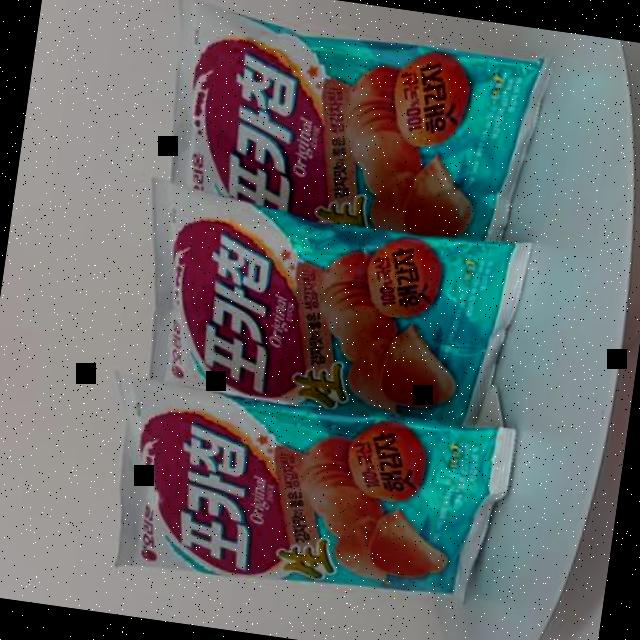snack_bag: (66, 0, 584, 636)
